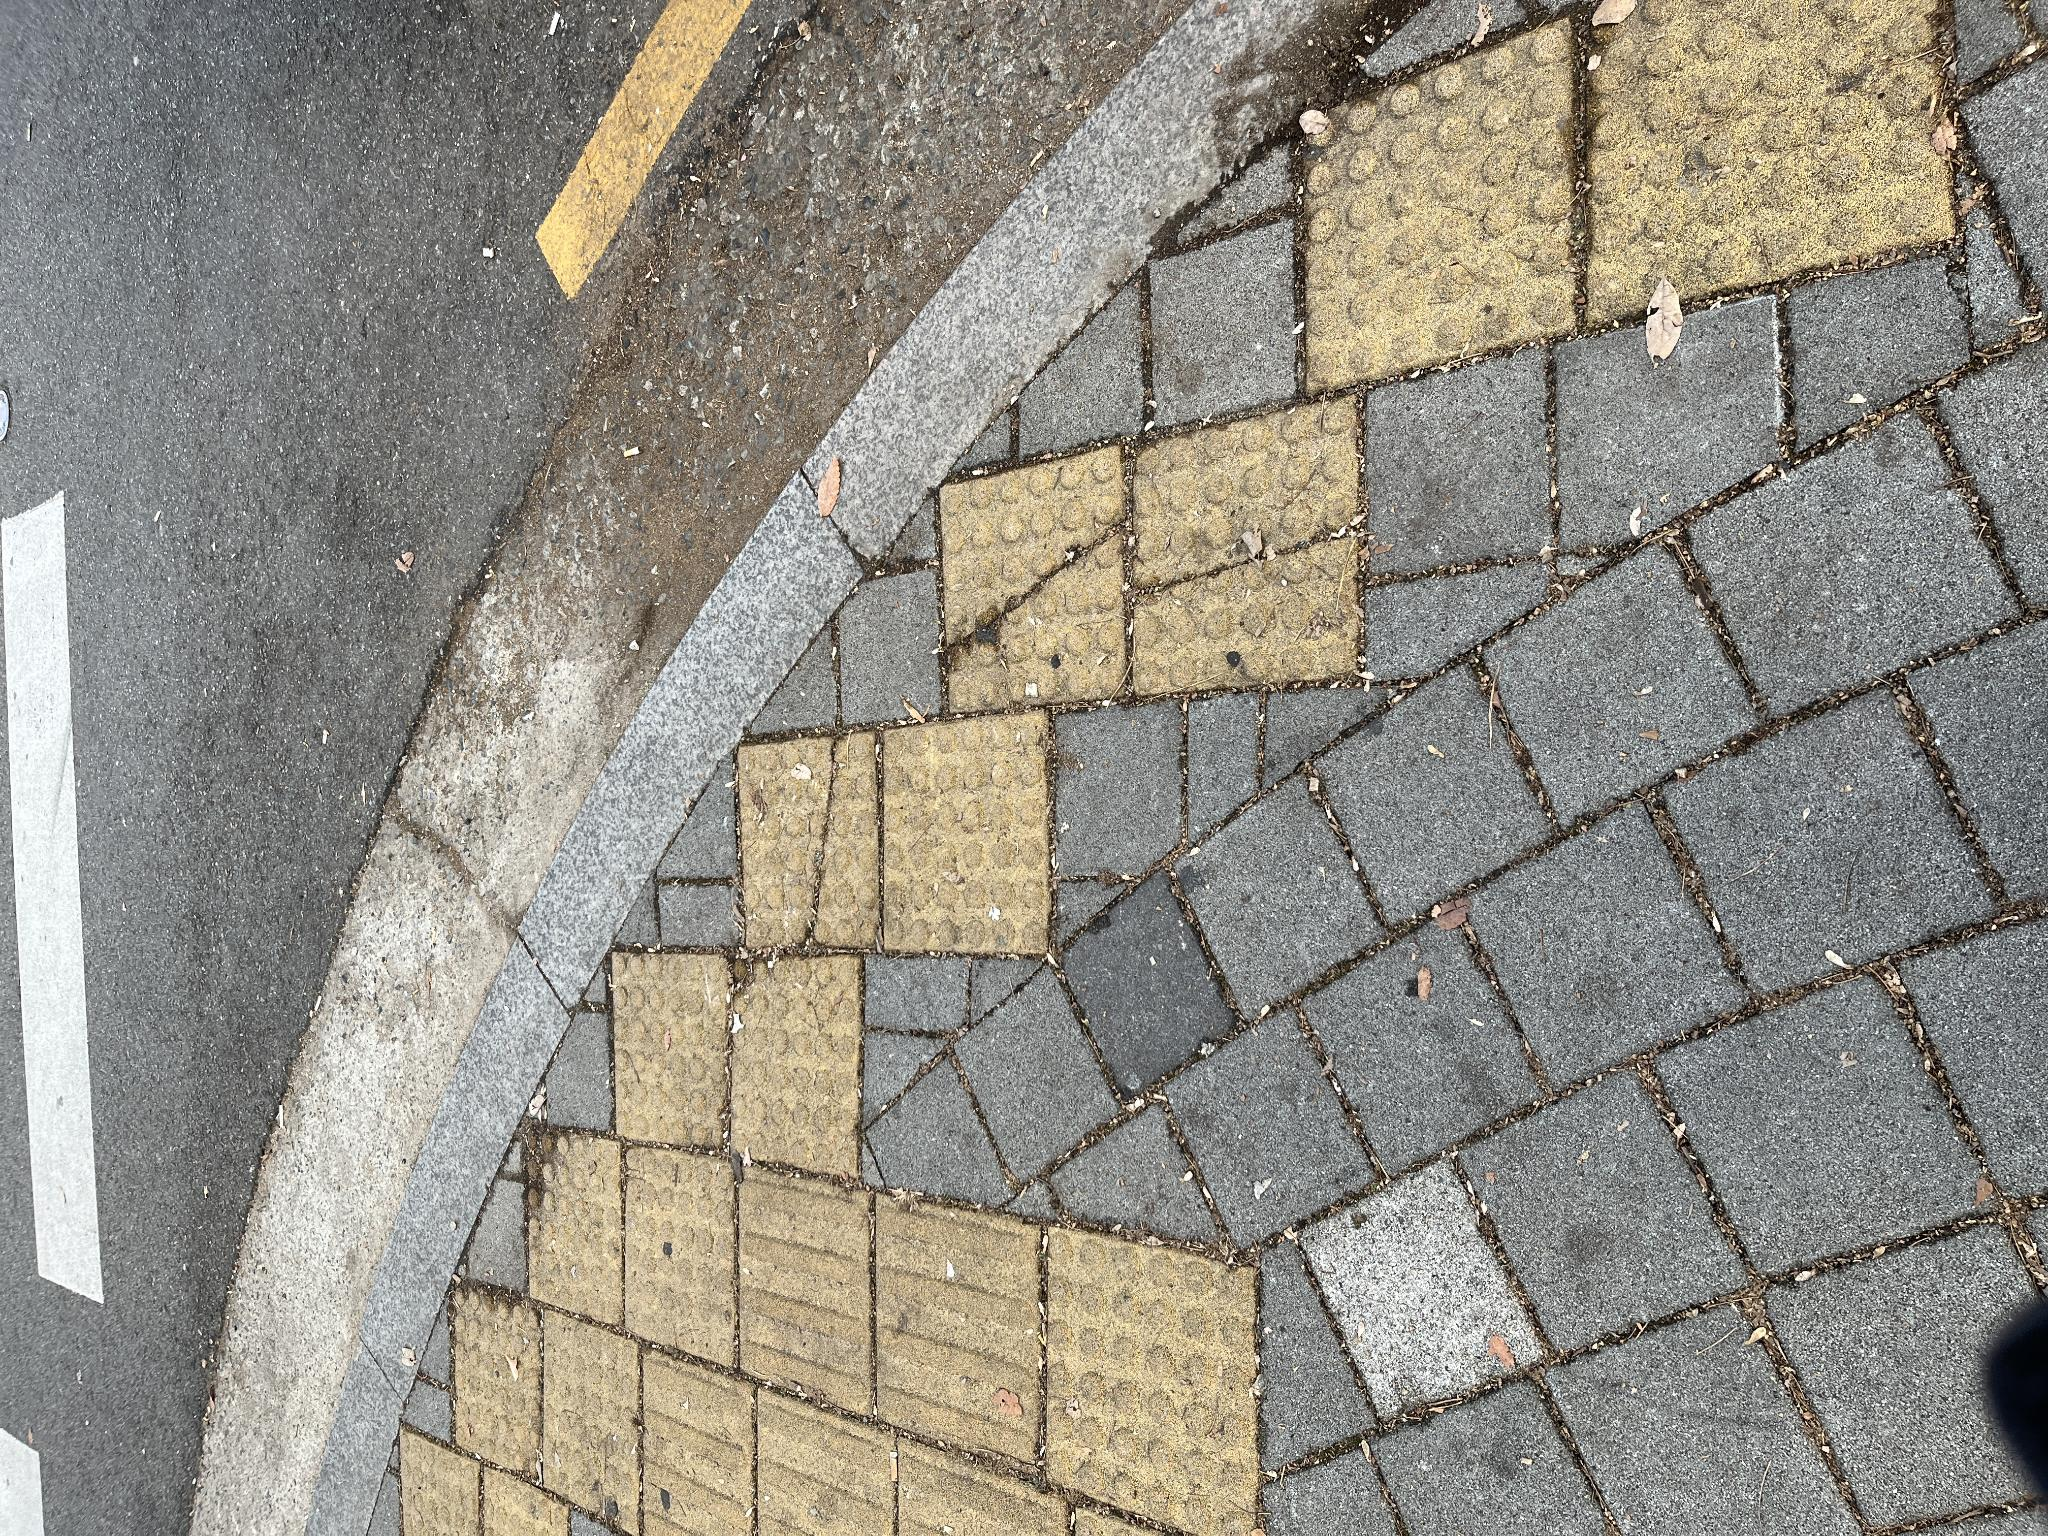Stop block broken: (843, 1131, 1147, 1360), (822, 944, 1089, 1123), (587, 742, 803, 878)
Stop block normal: (1145, 1302, 1505, 1536), (584, 884, 824, 1047), (360, 733, 577, 858), (385, 613, 584, 726)
Straight block normal: (66, 878, 339, 1036), (121, 739, 369, 871)
